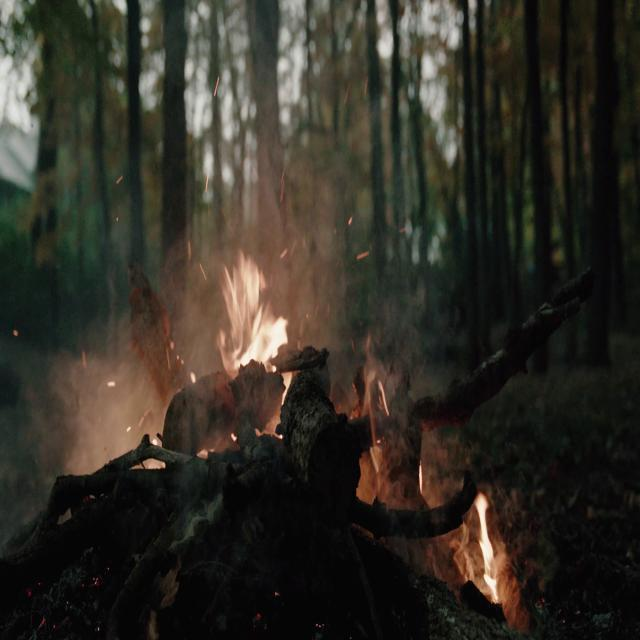Fire: (210, 244, 294, 394), (462, 488, 512, 621)
Smoke: (8, 247, 205, 496), (251, 110, 372, 342)
